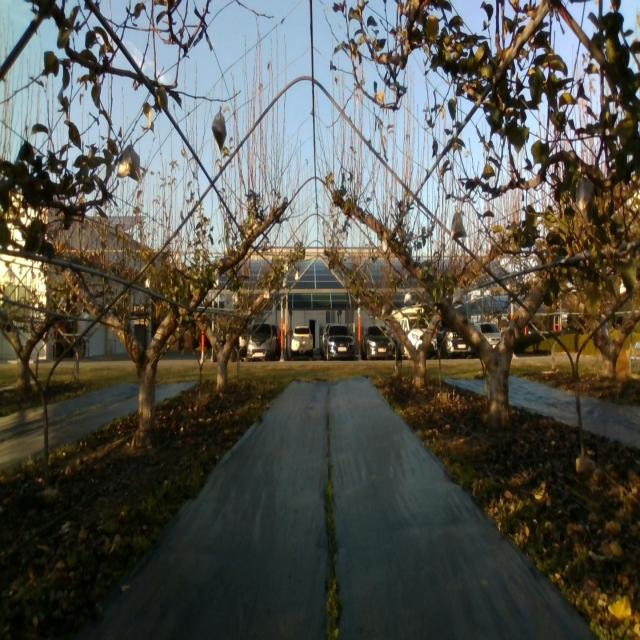pearbags: (117, 144, 142, 182), (576, 175, 595, 224), (212, 112, 226, 150), (452, 213, 468, 239), (452, 286, 464, 305)
